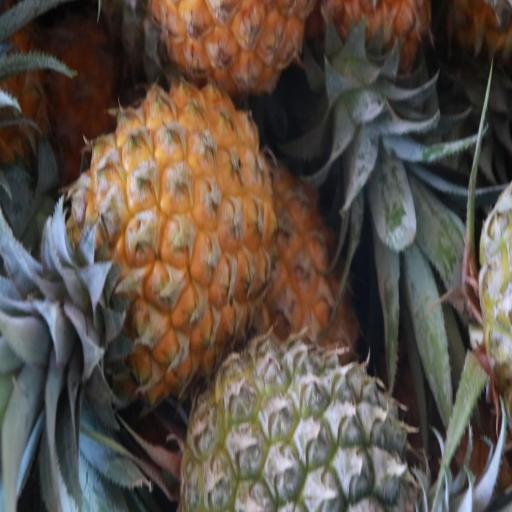Pineapple - v8 v1: (75, 82, 270, 398)
